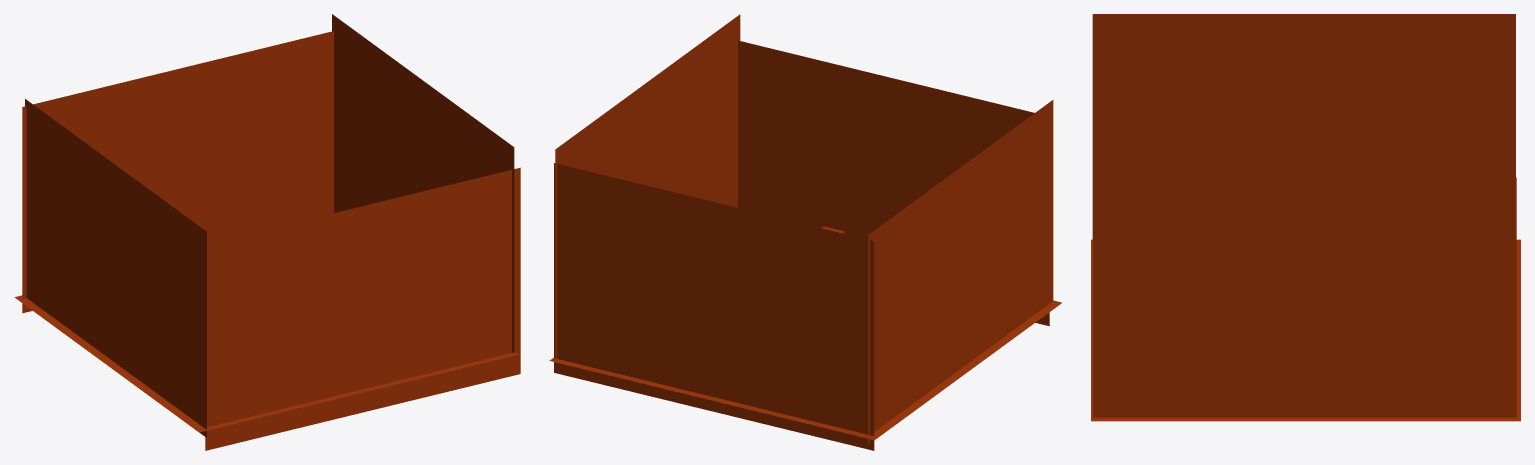
Rendered from level_2.obj.
3 views of the same model, side by side, from view 1: azimuth 30°, elevation 25°; view 2: azimuth 150°, elevation 25°; view 3: azimuth 270°, elevation 25° (orthographic). The views are drawn at different scales.
Parts seen in each view (by area): view 1: Plane.005, Plane.004, Plane.002, Plane.003, Plane.006_Plane.010; view 2: Plane.004, Plane.002, Plane.005, Plane.003, Plane.006_Plane.010; view 3: Plane.003, Plane.002, Plane.006_Plane.010.
Boxes of the visible parts, left/top/right/bottom form: Plane.005: left=205, top=167, right=520, bottom=450; Plane.004: left=22, top=31, right=333, bottom=313; Plane.002: left=25, top=99, right=206, bottom=437; Plane.003: left=332, top=14, right=514, bottom=353; Plane.006_Plane.010: left=14, top=295, right=518, bottom=432; Plane.004: left=554, top=163, right=874, bottom=450; Plane.002: left=868, top=100, right=1053, bottom=444; Plane.005: left=738, top=40, right=1049, bottom=326; Plane.003: left=555, top=14, right=740, bottom=358; Plane.006_Plane.010: left=549, top=300, right=1061, bottom=439; Plane.003: left=1093, top=177, right=1516, bottom=417; Plane.002: left=1092, top=14, right=1515, bottom=244; Plane.006_Plane.010: left=1091, top=239, right=1520, bottom=421.
Size of the model in its own units: 731 by 496 by 720.
